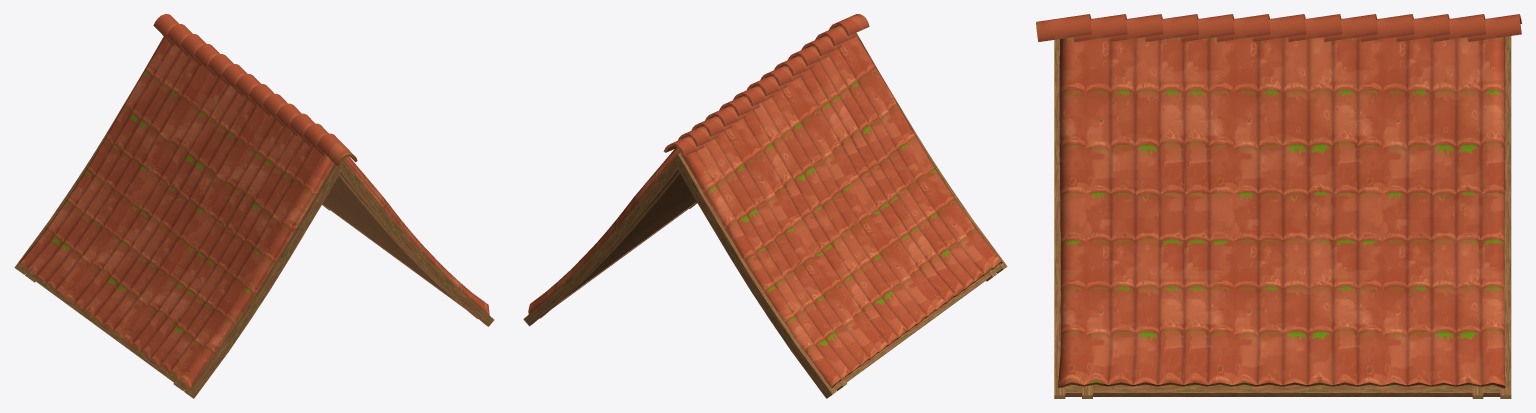
File: mv_roof_8x8.glb
The picture shows the model from 3 angles, left to right: view 1: azimuth 30°, elevation 25°; view 2: azimuth 150°, elevation 25°; view 3: azimuth 270°, elevation 25°; orthographic projection. The views are drawn at different scales.
Visible parts, largest first — view 1: Roof_RoundTiles_8x8; view 2: Roof_RoundTiles_8x8; view 3: Roof_RoundTiles_8x8.
Part boxes in pixels (bbox=[...]): Roof_RoundTiles_8x8: bbox=[14, 14, 494, 398]; Roof_RoundTiles_8x8: bbox=[523, 14, 1007, 398]; Roof_RoundTiles_8x8: bbox=[1036, 14, 1521, 398].
Size of the model in its own units: 9.95 by 6.78 by 10.33.
2 materials, 2 textured.
